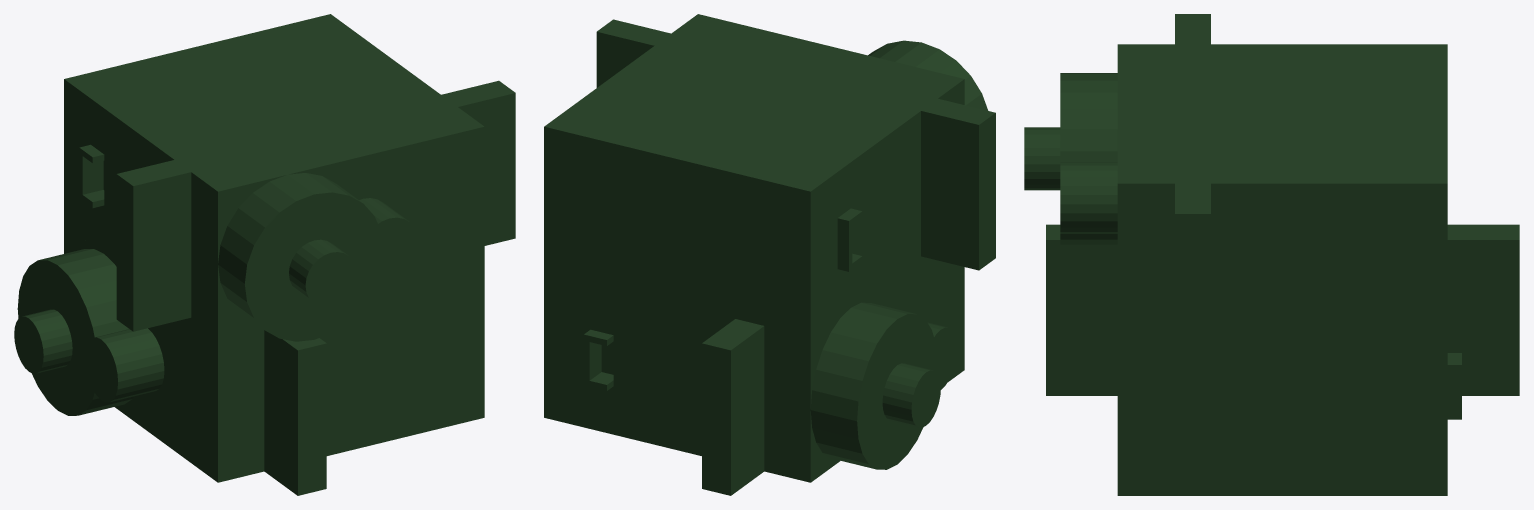
The model's file is ant_link1Leg_2_vis_1.dae.
3 renders of one model, left to right at view 1: azimuth 30°, elevation 25°; view 2: azimuth 150°, elevation 25°; view 3: azimuth 270°, elevation 25°, orthographic. The views are drawn at different scales.
Parts seen in each view (by area): view 1: node; view 2: node; view 3: node.
Boxes of the visible parts, <box> form: node: <box>14,14,515,495</box>; node: <box>544,14,995,495</box>; node: <box>1024,14,1519,495</box>.
Size of the model in its own units: 0.0518 by 0.036 by 0.0518.
